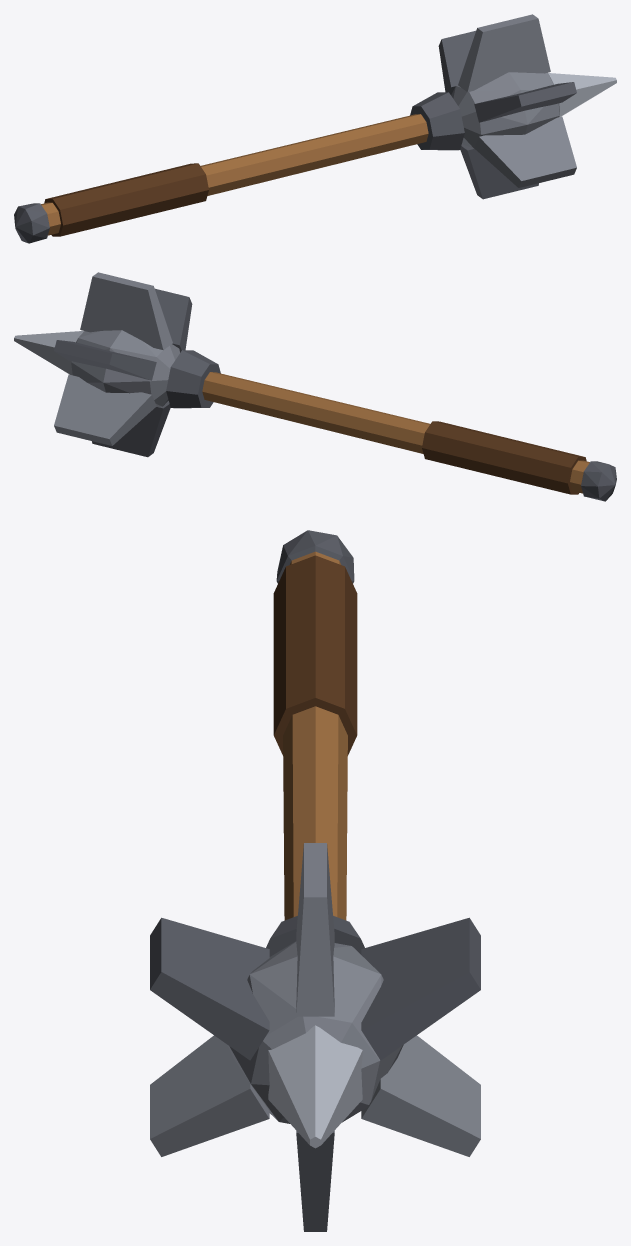
The model's file is drop_iron_mace.glb.
The picture shows the model from 3 angles, top to bottom: view 1: azimuth 30°, elevation 25°; view 2: azimuth 150°, elevation 25°; view 3: azimuth 270°, elevation 25°; orthographic projection. The views are drawn at different scales.
Parts seen in each view (by area): view 1: drop_iron_mace; view 2: drop_iron_mace; view 3: drop_iron_mace.
Part boxes in pixels (<box>): drop_iron_mace: <box>14,14,616,243</box>; drop_iron_mace: <box>14,272,616,501</box>; drop_iron_mace: <box>150,530,480,1231</box>.
Bounding box in the file's own units: 0.6912 × 0.184 × 0.1651.
